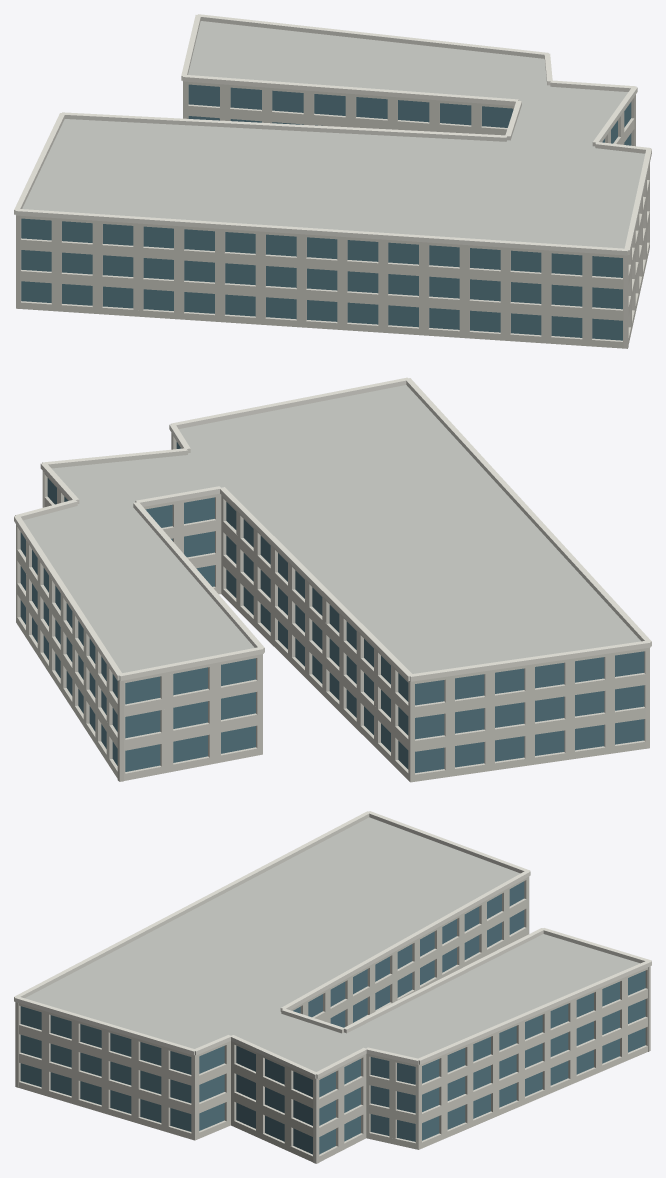
File: sb_1556523866.far.glb
The picture shows the model from 3 angles, top to bottom: view 1: azimuth 30°, elevation 25°; view 2: azimuth 150°, elevation 25°; view 3: azimuth 270°, elevation 25°; orthographic projection. The views are drawn at different scales.
Visible parts, largest first — view 1: roof, wall, glass, trim; view 2: roof, wall, glass, trim; view 3: roof, wall, glass, trim.
Boxes of the visible parts, x1,y1,x2,y2 form: roof: (22,21,644,248); wall: (16,81,649,348); glass: (21,84,631,340); trim: (14,14,651,255); roof: (23,385,640,673); wall: (16,433,649,782); glass: (20,442,644,772); trim: (14,377,651,681); roof: (25,817,639,1071); wall: (15,876,650,1163); glass: (20,881,645,1154); trim: (14,811,651,1078).
Bounding box in the file's own units: 61.44 × 9.74 × 62.8.
